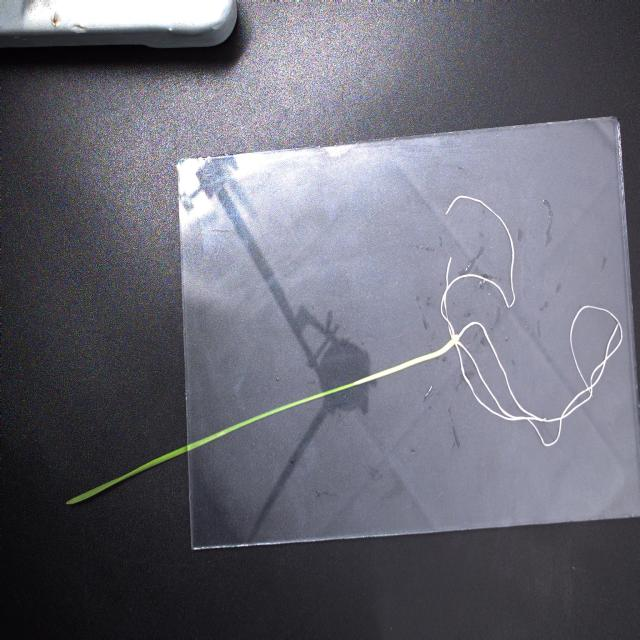leaf: (67, 383, 355, 507)
root: (441, 195, 623, 447)
stem: (352, 340, 453, 388)
